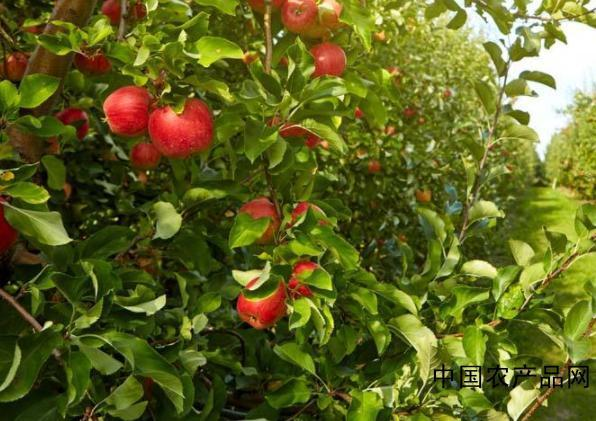apple: (147, 96, 214, 156), (233, 273, 288, 329), (103, 85, 150, 135), (279, 122, 333, 152), (309, 42, 346, 77), (279, 1, 317, 34), (4, 49, 28, 82)
